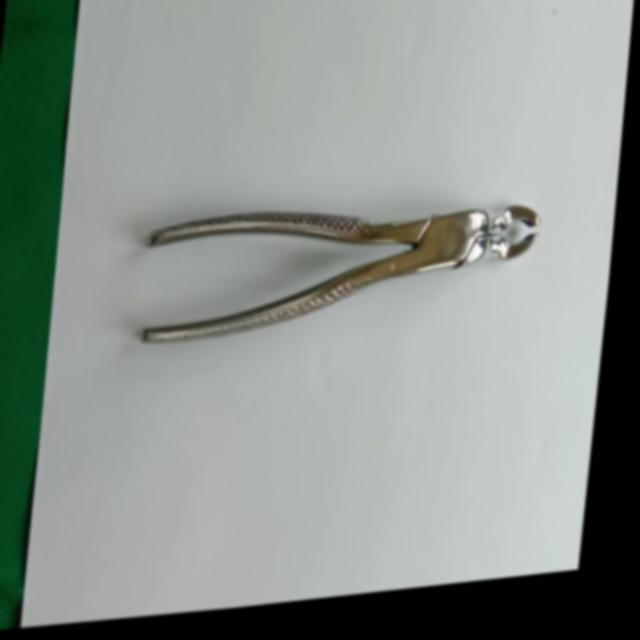BayonetForcep: (131, 176, 552, 382)
